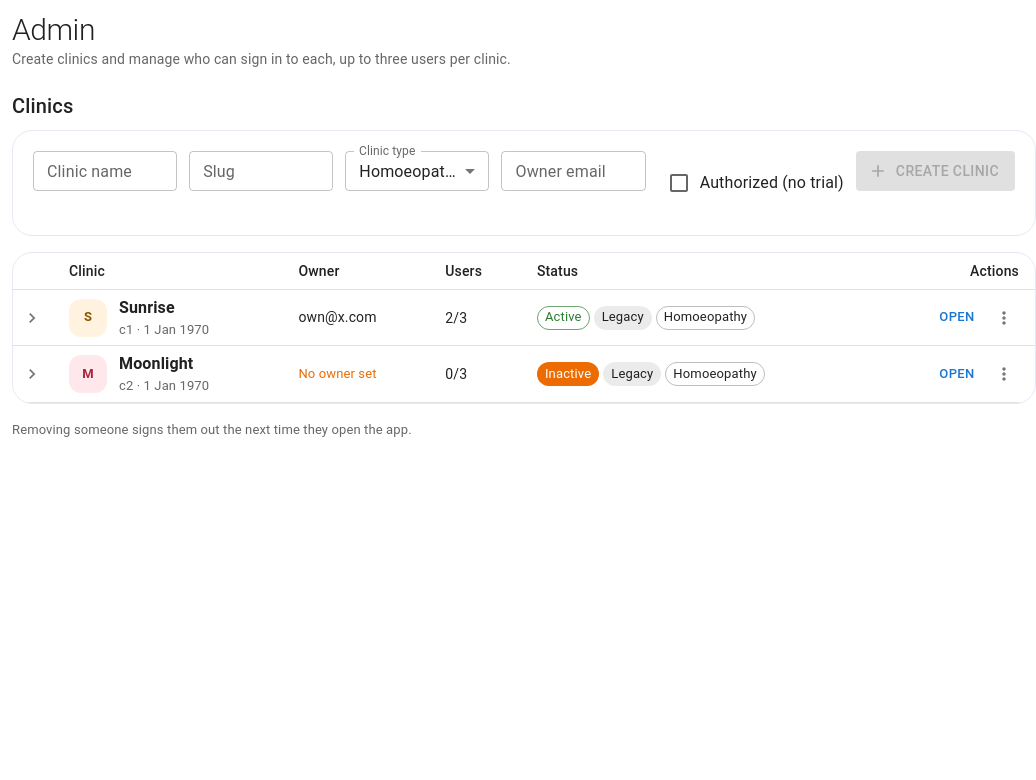
Test: clinic rows show owner, user count and status; users stay hidden until expanded
This screenshot has width=1036, height=780.
Check: the text "2/3" is shown, box [429,289,521,346]
Check: the text "0/3" is shown, box [429,346,521,402]
Click the button named "Show users of Sunrise" at (32, 318), box [17,303,47,333]
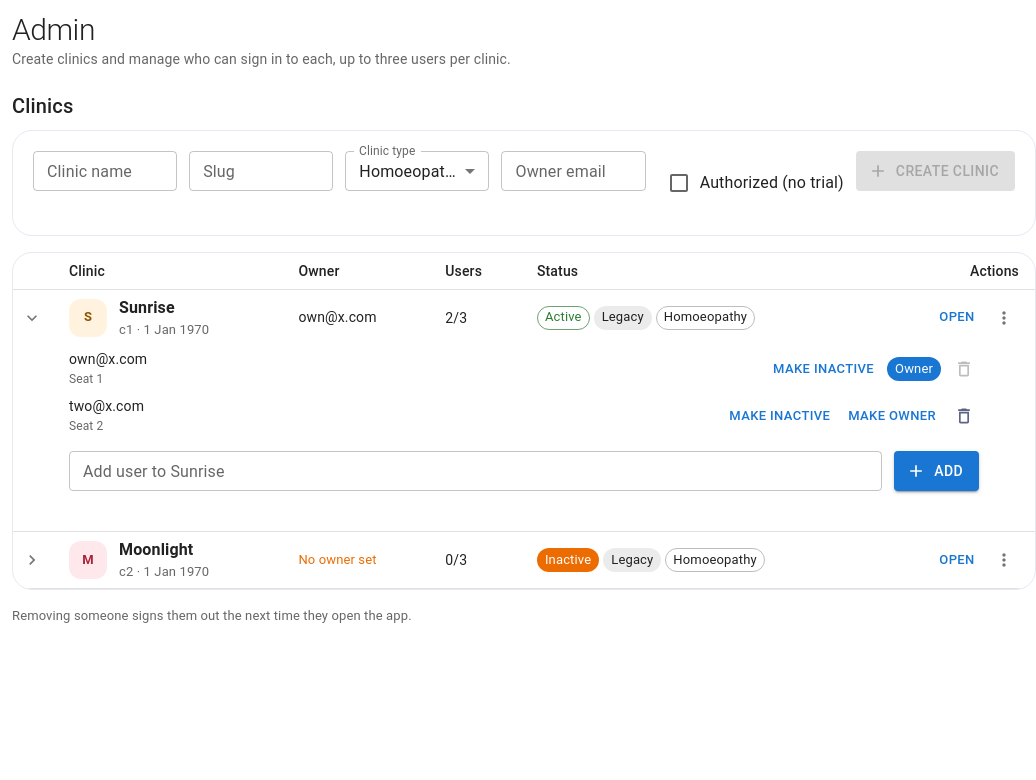
Check: the text "Seat 2" is shown, box [69,419,103,433]
